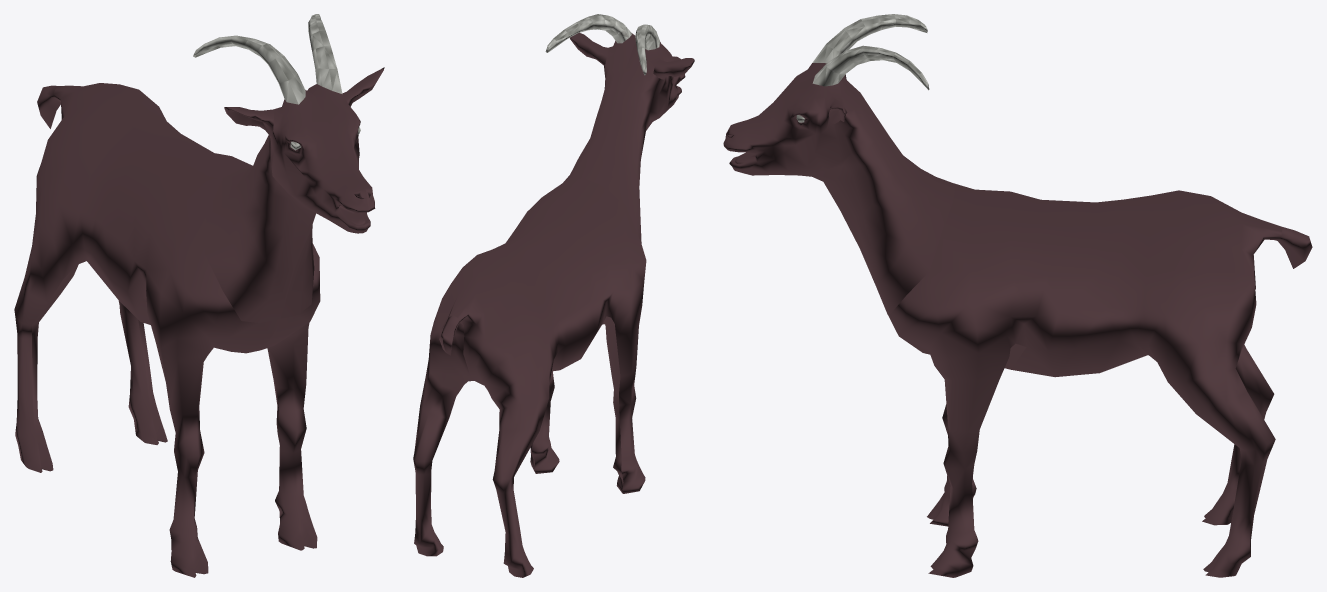
The model's file is goat.fbx.
3 views of the same model, side by side, from view 1: azimuth 30°, elevation 25°; view 2: azimuth 150°, elevation 25°; view 3: azimuth 270°, elevation 25° (orthographic). The views are drawn at different scales.
Visible parts, largest first — view 1: Goat; view 2: Goat; view 3: Goat.
Part boxes in pixels (x1,y1,x2,y2): Goat: (14, 14, 384, 577); Goat: (413, 14, 694, 577); Goat: (723, 14, 1312, 577).
Size of the model in its own units: 1.63 by 5.36 by 5.53.
